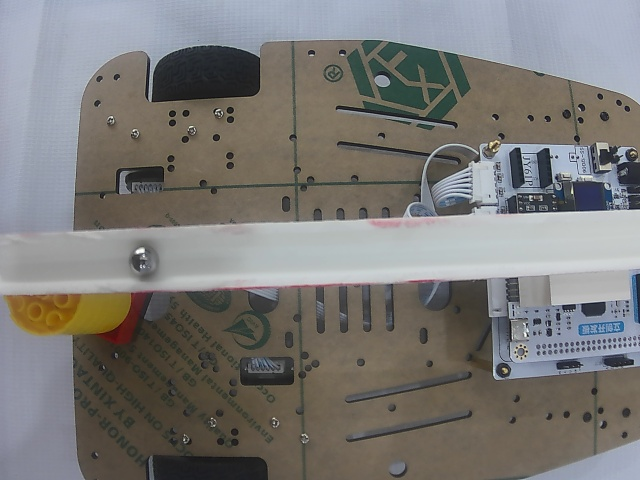steelball: (128, 245, 159, 277)
